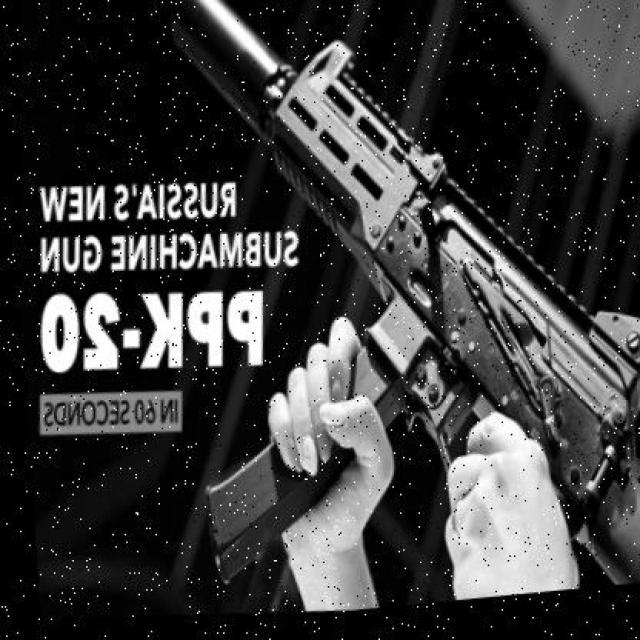weapon: (144, 0, 640, 594)
